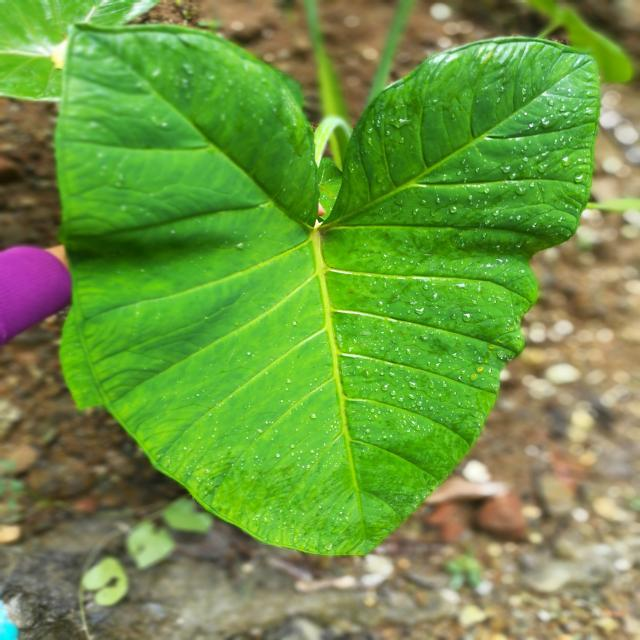leaf: (52, 20, 601, 557)
